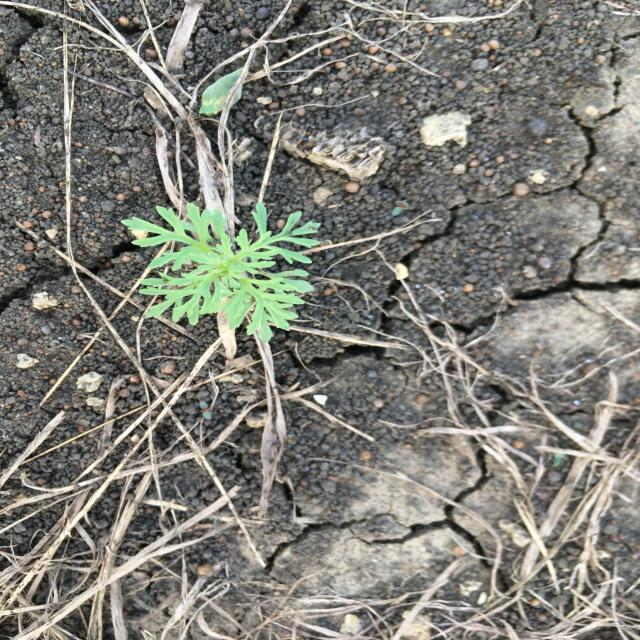Ragweed: (118, 197, 325, 345)
